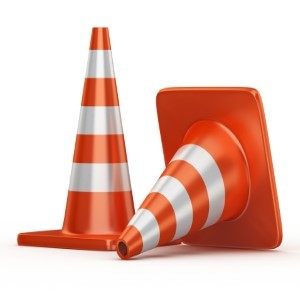traffic cone: (17, 27, 181, 252), (115, 91, 283, 260)
